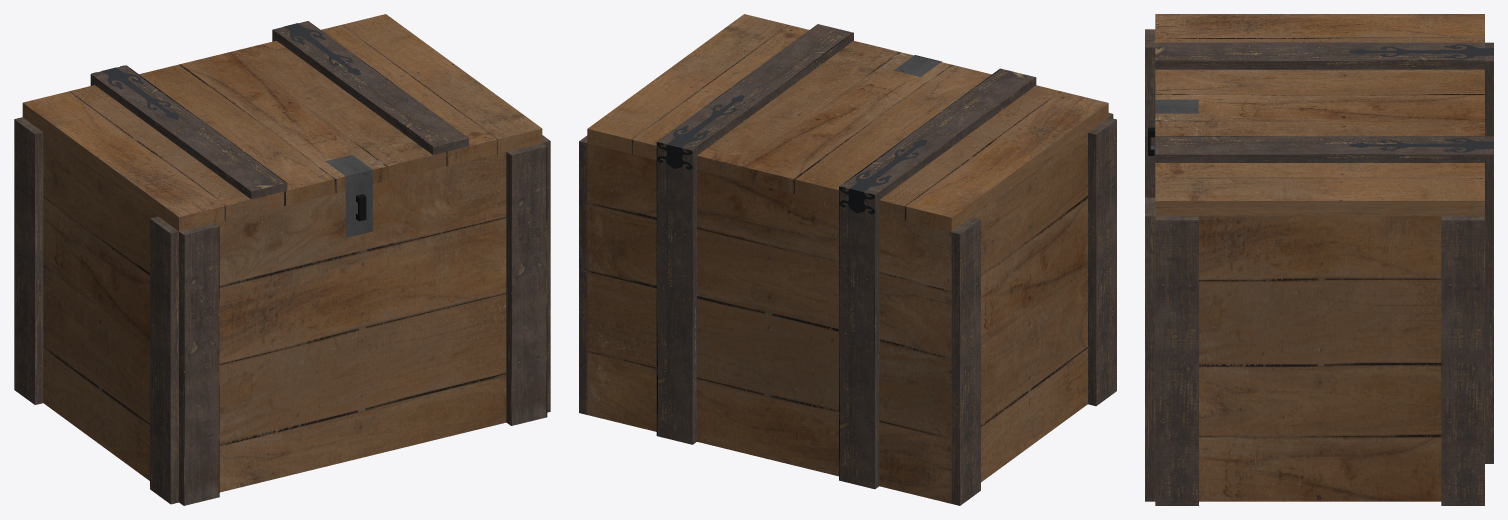
The model's file is skrzynia.fbx.
The picture shows the model from 3 angles, left to right: view 1: azimuth 30°, elevation 25°; view 2: azimuth 150°, elevation 25°; view 3: azimuth 270°, elevation 25°; orthographic projection. The views are drawn at different scales.
Parts seen in each view (by area): view 1: Cube.007; view 2: Cube.007; view 3: Cube.007.
Boxes of the visible parts, x1,y1,x2,y2 form: Cube.007: [14, 14, 550, 505]; Cube.007: [579, 14, 1116, 505]; Cube.007: [1145, 14, 1493, 505].
Bounding box in the file's own units: 83.64 × 61.77 × 63.09.
1 material, 1 textured.
